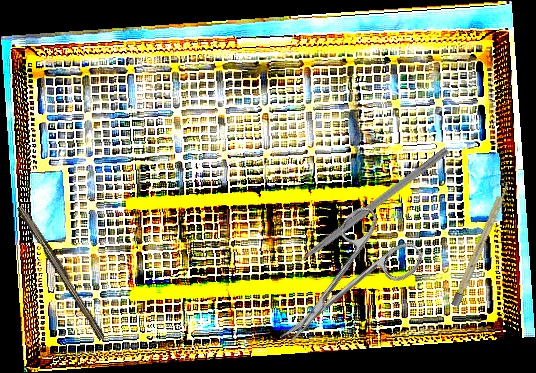Chopper: (274, 137, 450, 278)
Iris Scissors: (252, 196, 428, 371)
Scalpel Handle: (14, 203, 110, 341), (451, 180, 511, 308)
